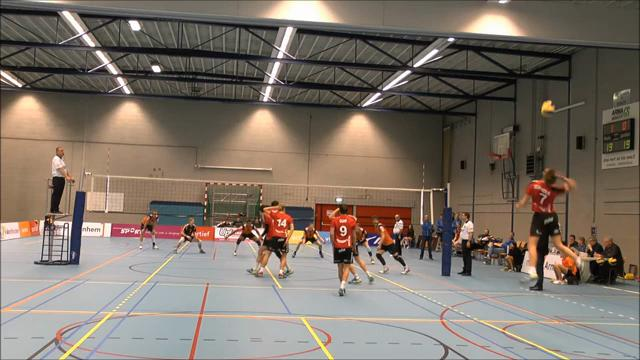battuta: (516, 166, 586, 283)
